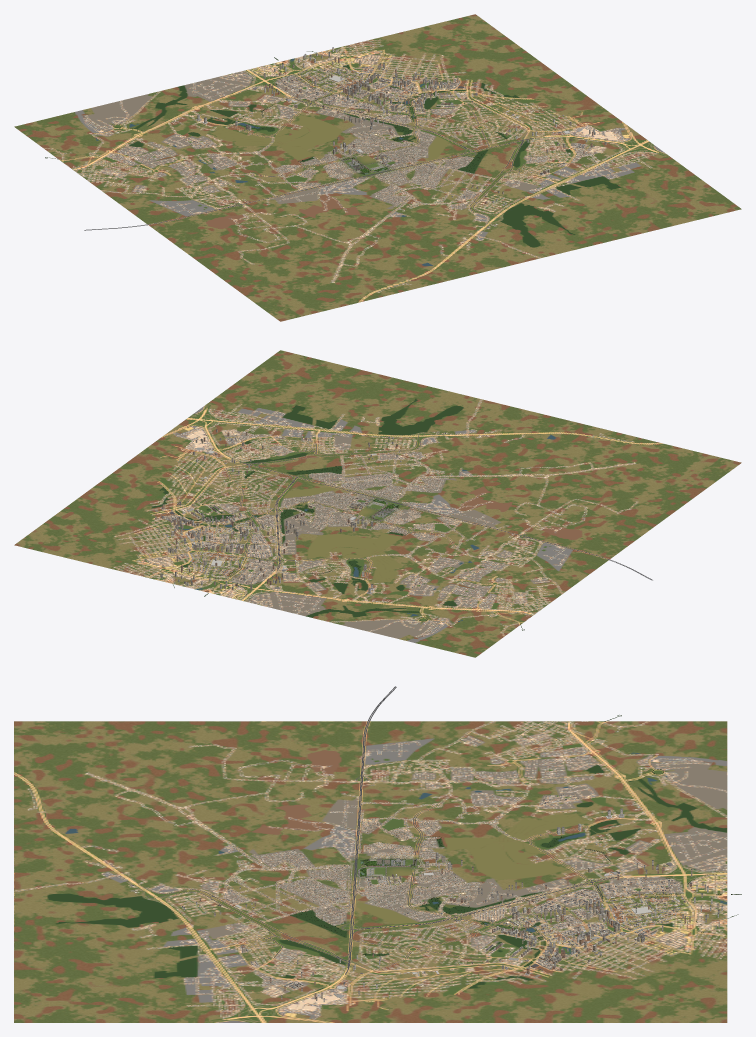
File: veredas.glb
3 renders of one model, top to bottom at view 1: azimuth 30°, elevation 25°; view 2: azimuth 150°, elevation 25°; view 3: azimuth 270°, elevation 25°, orthographic. The views are drawn at different scales.
Parts seen in each view (by area): view 1: mundo-anel, mundo-telhados, mundo-predios, mundo-casas-paredes, mundo-asfalto; view 2: mundo-anel, mundo-telhados, mundo-predios, mundo-casas-paredes, mundo-asfalto; view 3: mundo-anel, mundo-telhados, mundo-predios, mundo-casas-paredes, mundo-asfalto, mundo-arvores, mundo-solo-planta.
Part boxes in pixels (bbox=[...]): mundo-anel: bbox=[14, 14, 741, 321]; mundo-telhados: bbox=[183, 47, 605, 227]; mundo-predios: bbox=[183, 47, 606, 227]; mundo-casas-paredes: bbox=[241, 107, 488, 216]; mundo-asfalto: bbox=[84, 91, 544, 230]; mundo-anel: bbox=[14, 350, 741, 657]; mundo-telhados: bbox=[155, 429, 559, 593]; mundo-predios: bbox=[155, 429, 559, 594]; mundo-casas-paredes: bbox=[235, 456, 494, 561]; mundo-asfalto: bbox=[203, 433, 652, 580]; mundo-anel: bbox=[14, 721, 727, 1022]; mundo-telhados: bbox=[131, 750, 722, 998]; mundo-predios: bbox=[131, 754, 722, 1002]; mundo-casas-paredes: bbox=[223, 801, 590, 947]; mundo-asfalto: bbox=[138, 686, 622, 974]; mundo-arvores: bbox=[274, 715, 741, 955]; mundo-solo-planta: bbox=[355, 859, 417, 876].
Size of the model in its own units: 9384 by 106 by 8575.
27 materials, 15 textured.
